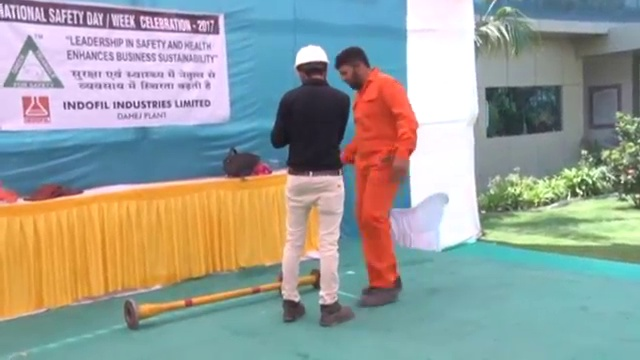helmet: (295, 44, 330, 71)
helmet_off: (335, 46, 376, 91)
helmet_on: (294, 42, 332, 90)
person: (271, 41, 354, 327), (331, 44, 419, 308)
